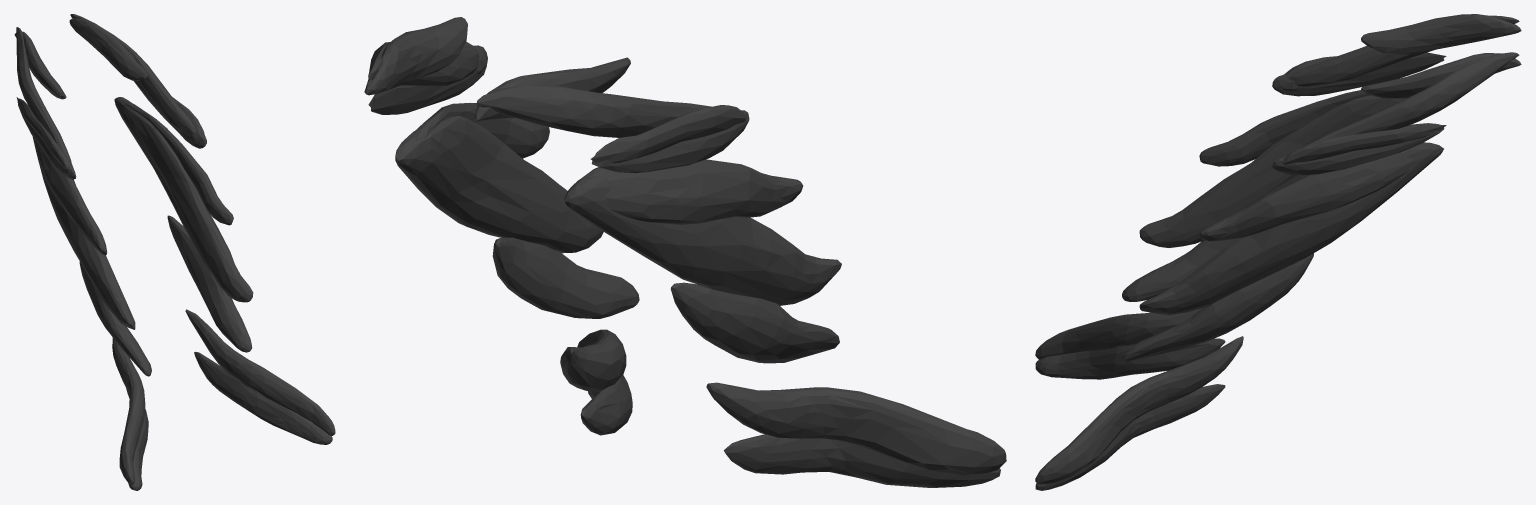
The model's file is m_intertransversarii_dorsales_cervicis.glb.
The picture shows the model from 3 angles, left to right: view 1: azimuth 30°, elevation 25°; view 2: azimuth 150°, elevation 25°; view 3: azimuth 270°, elevation 25°; orthographic projection. The views are drawn at different scales.
Parts seen in each view (by area): view 1: m_intertransversarii_dorsales_cervicis; view 2: m_intertransversarii_dorsales_cervicis; view 3: m_intertransversarii_dorsales_cervicis.
Boxes of the visible parts, bbox=[...] form: m_intertransversarii_dorsales_cervicis: bbox=[14, 14, 335, 490]; m_intertransversarii_dorsales_cervicis: bbox=[364, 17, 1006, 487]; m_intertransversarii_dorsales_cervicis: bbox=[1035, 14, 1521, 490].
Bounding box in the file's own units: 0.00208 × 0.00299 × 0.00331.
Materials: 1 (1 with a texture image).
